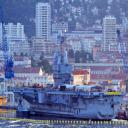Portanaves: (10, 10, 127, 120)
